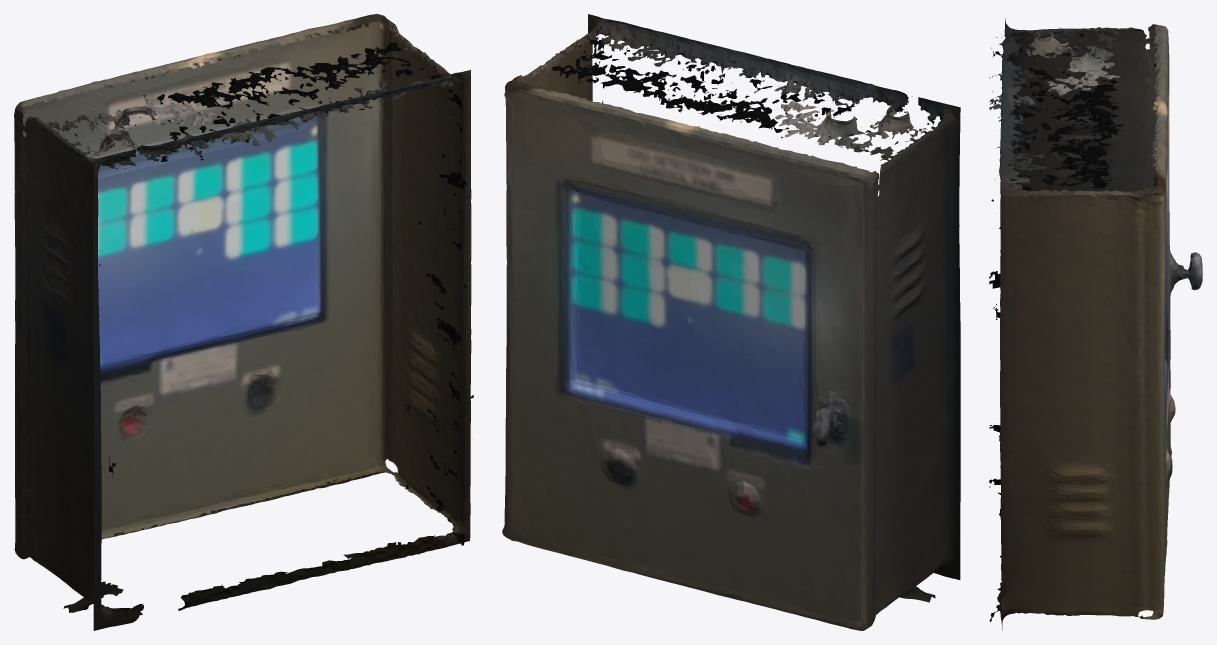
Rendered from ER_Control_Panel.obj.
3 renders of one model, left to right at view 1: azimuth 30°, elevation 25°; view 2: azimuth 150°, elevation 25°; view 3: azimuth 270°, elevation 25°, orthographic. The views are drawn at different scales.
Visible parts, largest first — view 1: ElectricRoom_ControlPanel; view 2: ElectricRoom_ControlPanel; view 3: ElectricRoom_ControlPanel.
Part boxes in pixels (box(x1,y1,x2,y2)): ElectricRoom_ControlPanel: box(14, 14, 473, 630); ElectricRoom_ControlPanel: box(502, 14, 960, 630); ElectricRoom_ControlPanel: box(989, 18, 1202, 630).
Size of the model in its own units: 0.5335 by 0.6424 by 0.2796.
1 material, 1 textured.
